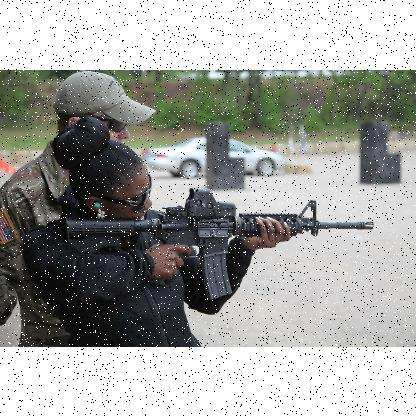gun: (67, 187, 371, 297)
